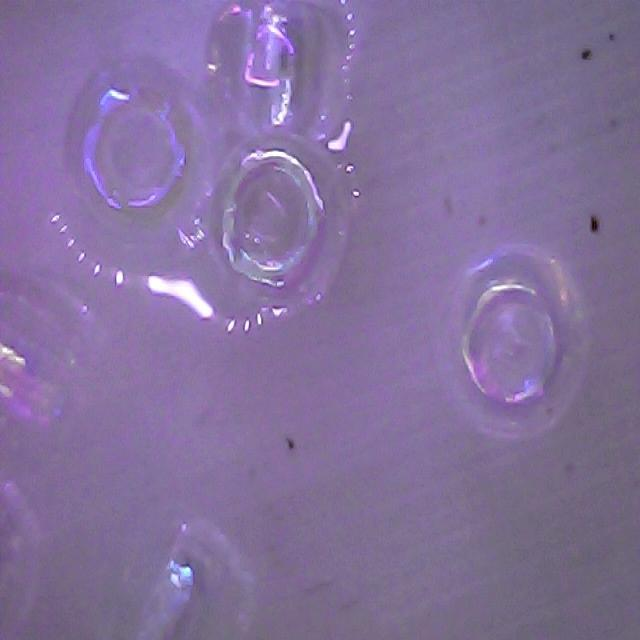beads: (47, 47, 229, 262), (188, 121, 368, 336), (428, 234, 602, 449), (199, 0, 360, 142)
